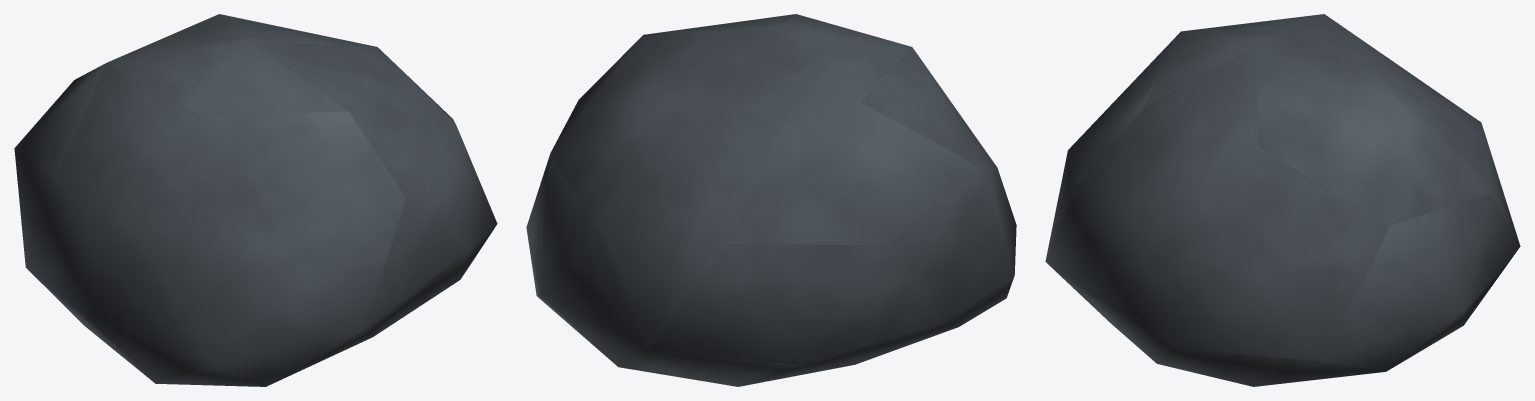
File: rock_b.fbx
3 renders of one model, left to right at view 1: azimuth 30°, elevation 25°; view 2: azimuth 150°, elevation 25°; view 3: azimuth 270°, elevation 25°, orthographic. The views are drawn at different scales.
Visible parts, largest first — view 1: rock_b; view 2: rock_b; view 3: rock_b.
Boxes of the visible parts, left/top/right/bottom form: rock_b: left=14, top=14, right=497, bottom=386; rock_b: left=526, top=14, right=1016, bottom=386; rock_b: left=1045, top=14, right=1520, bottom=386.
Bounding box in the file's own units: 119 × 84.94 × 124.
